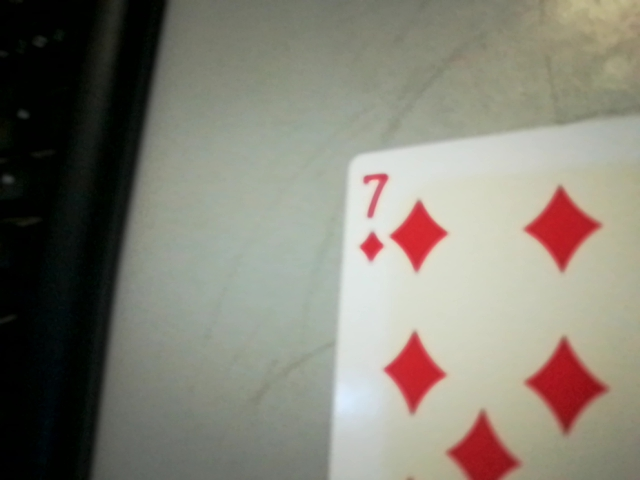fk 7: (344, 163, 398, 270)
